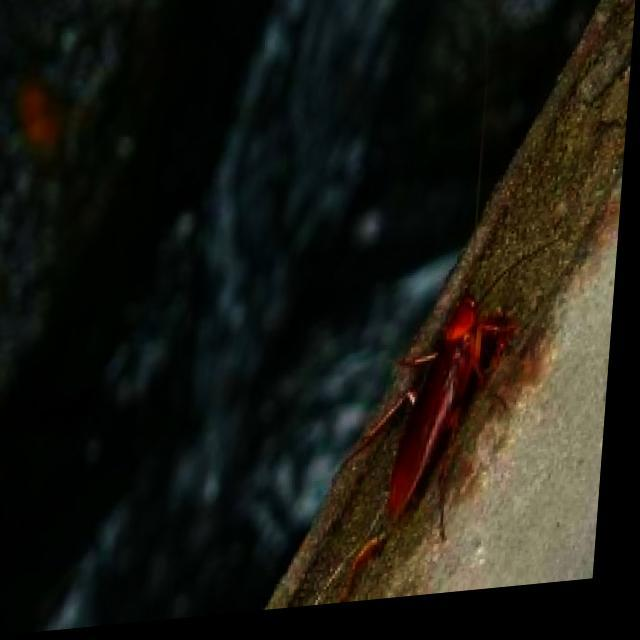cockroach: (356, 237, 536, 542)
